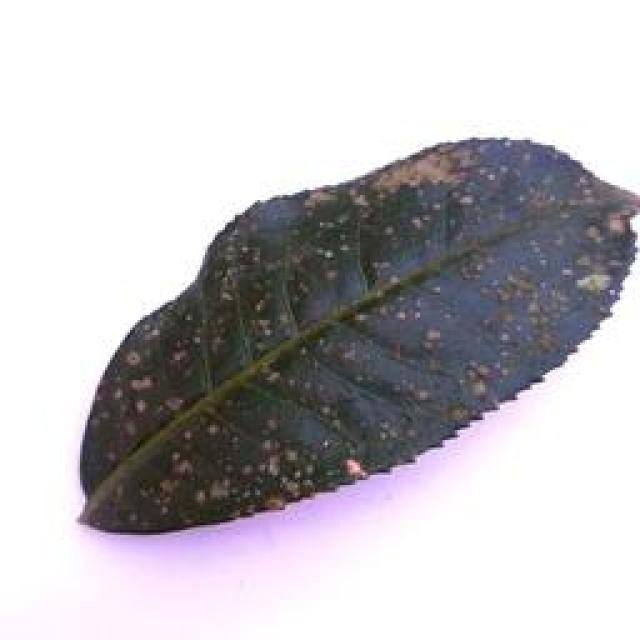Algal Leaf Spot: (72, 126, 640, 537)
